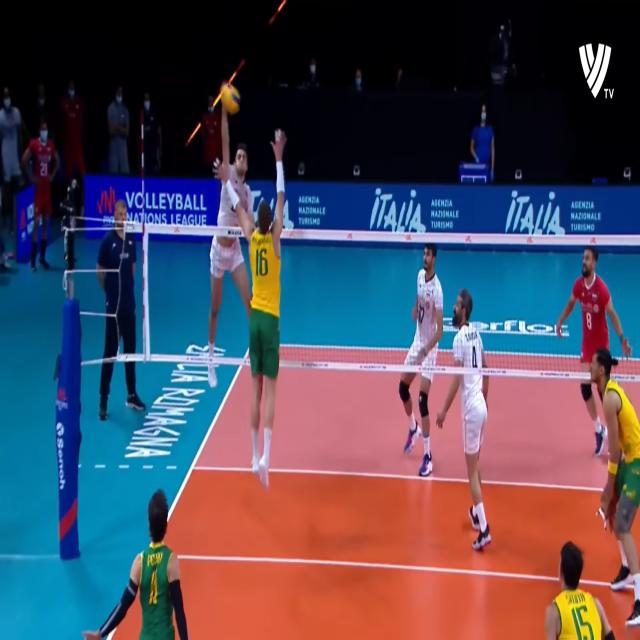player: (233, 190, 286, 491), (435, 288, 496, 549), (559, 245, 633, 446), (590, 345, 640, 624), (209, 126, 253, 384), (118, 486, 189, 640), (400, 239, 444, 479), (547, 546, 612, 640)
